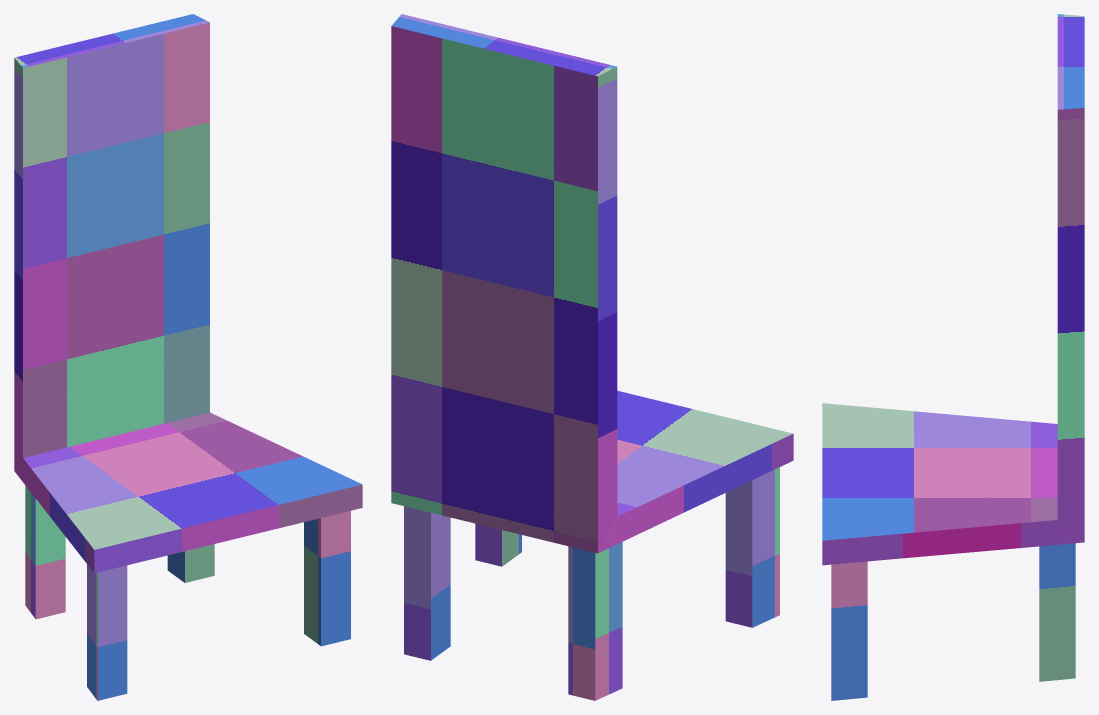
The model's file is rmk_mnc_chairS_jwl.dae.
3 renders of one model, left to right at view 1: azimuth 30°, elevation 25°; view 2: azimuth 150°, elevation 25°; view 3: azimuth 270°, elevation 25°, orthographic. The views are drawn at different scales.
Visible parts, largest first — view 1: rmk_mnc_chairS_jwl; view 2: rmk_mnc_chairS_jwl; view 3: rmk_mnc_chairS_jwl.
Part boxes in pixels (<box>): rmk_mnc_chairS_jwl: <box>14,14,362,700</box>; rmk_mnc_chairS_jwl: <box>391,14,793,700</box>; rmk_mnc_chairS_jwl: <box>822,14,1084,700</box>.
Bounding box in the file's own units: 28.8 × 56 × 23.2.
Materials: 1 (1 with a texture image).
